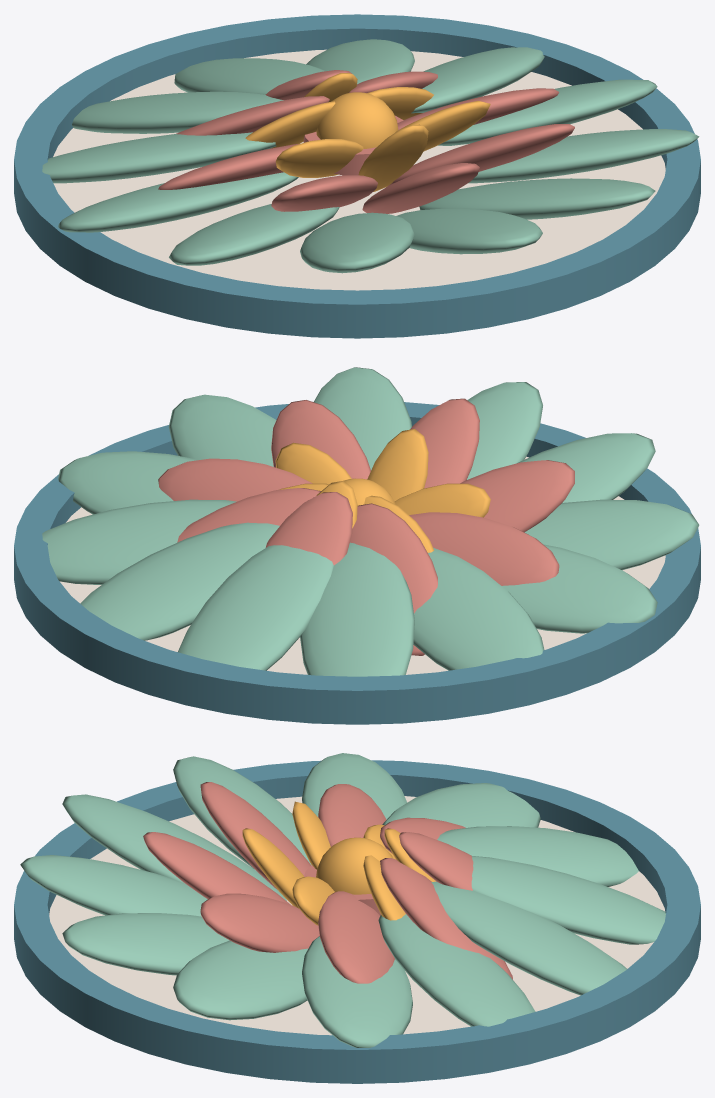
Rendered from lotus-medallion.glb.
The picture shows the model from 3 angles, top to bottom: view 1: azimuth 30°, elevation 25°; view 2: azimuth 150°, elevation 25°; view 3: azimuth 270°, elevation 25°; orthographic projection.
Parts seen in each view (by area): view 1: LotusRim, LotusPlate, lotus.ringOuter.008, lotus.ringOuter.001, lotus.ringOuter.009, lotus.ringOuter.002, lotus.ringOuter.007, lotus.ringOuter.010, lotus.ringOuter.011, LotusPetalOuter, lotus.ringOuter.003, lotus.ringOuter.004 (+18 smaller); view 2: LotusRim, lotus.ringOuter.006, lotus.ringOuter.007, lotus.ringOuter.005, lotus.ringOuter.008, lotus.ringOuter.004, lotus.ringOuter.010, lotus.ringOuter.009, lotus.ringMid.006, lotus.ringOuter.002, lotus.ringOuter.003, lotus.ringOuter.011 (+15 smaller); view 3: LotusRim, LotusPlate, lotus.ringOuter.005, lotus.ringOuter.006, lotus.ringOuter.004, lotus.ringOuter.002, lotus.ringOuter.003, LotusPetalOuter, lotus.ringOuter.001, lotus.ringOuter.007, lotus.ringOuter.011, lotus.ringMid.001 (+16 smaller).
Boxes of the visible parts, x1,y1,x2,y2 form: LotusRim: (14,14,700,338); LotusPlate: (53,49,665,290); lotus.ringOuter.008: (42,132,276,183); lotus.ringOuter.001: (419,178,655,219); lotus.ringOuter.009: (58,172,298,232); lotus.ringOuter.002: (468,129,699,183); lotus.ringOuter.007: (72,91,283,133); lotus.ringOuter.010: (169,204,339,265); lotus.ringOuter.011: (300,212,414,273); LotusPetalOuter: (396,208,542,254); lotus.ringOuter.003: (438,79,657,145); lotus.ringOuter.004: (411,47,544,113); LotusRim: (14,402,700,724); lotus.ringOuter.006: (178,545,333,670); lotus.ringOuter.007: (300,542,414,676); lotus.ringOuter.005: (80,522,279,640); lotus.ringOuter.008: (413,547,544,670); lotus.ringOuter.004: (42,499,236,584); lotus.ringOuter.010: (524,499,699,570); lotus.ringOuter.009: (502,544,657,633); lotus.ringMid.006: (409,512,559,585); lotus.ringOuter.002: (168,394,276,466); lotus.ringOuter.003: (58,451,198,514); lotus.ringOuter.011: (517,433,655,502); LotusRim: (14,760,700,1083); LotusPlate: (49,796,665,1035); lotus.ringOuter.005: (431,881,626,995); lotus.ringOuter.006: (471,856,665,944); lotus.ringOuter.004: (378,914,535,1026); lotus.ringOuter.002: (173,940,307,1020); lotus.ringOuter.003: (302,936,412,1047); LotusPetalOuter: (20,855,207,916); lotus.ringOuter.001: (62,913,229,975); lotus.ringOuter.007: (437,826,638,886); lotus.ringOuter.011: (62,794,286,900); lotus.ringMid.001: (200,893,319,952).
Bounding box in the file's own units: 0.92 × 0.1709 × 0.92.
